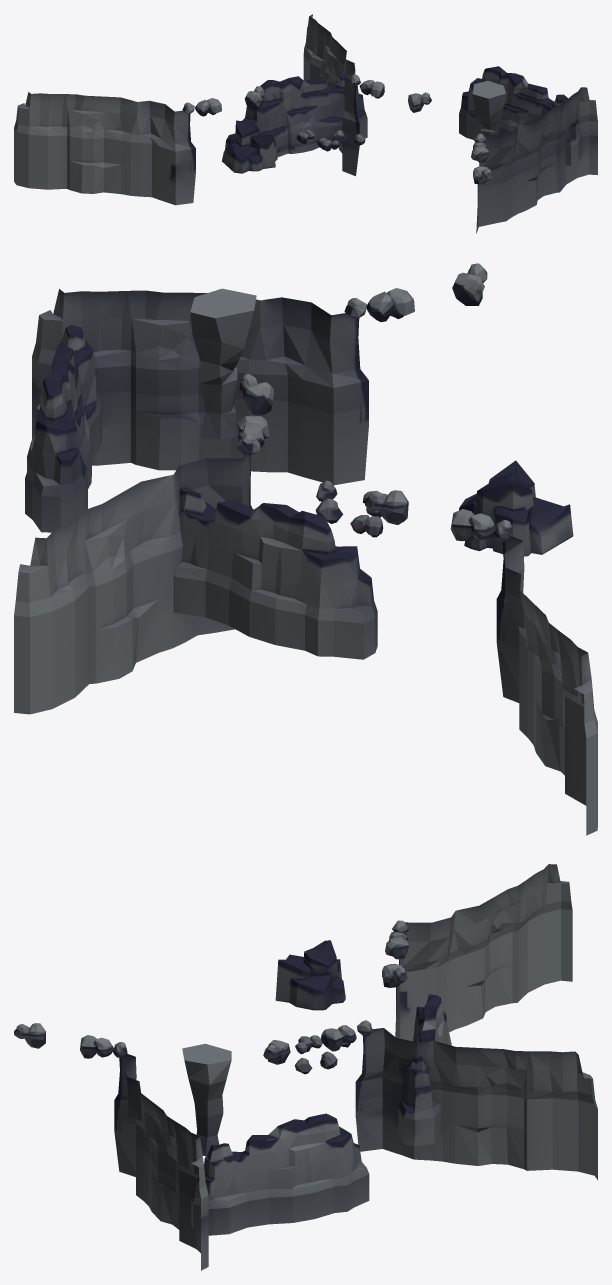
The model's file is Wall_01.FBX.
3 views of the same model, one above another, from view 1: azimuth 30°, elevation 25°; view 2: azimuth 150°, elevation 25°; view 3: azimuth 270°, elevation 25° (orthographic). The views are drawn at different scales.
Visible parts, largest first — view 1: Wall_01; view 2: Wall_01; view 3: Wall_01.
Part boxes in pixels (left/top/right/bottom): Wall_01: left=14, top=14, right=597, bottom=233; Wall_01: left=14, top=263, right=597, bottom=835; Wall_01: left=14, top=864, right=597, bottom=1270.
Bounding box in the file's own units: 54.33 × 12.8 × 46.2.
